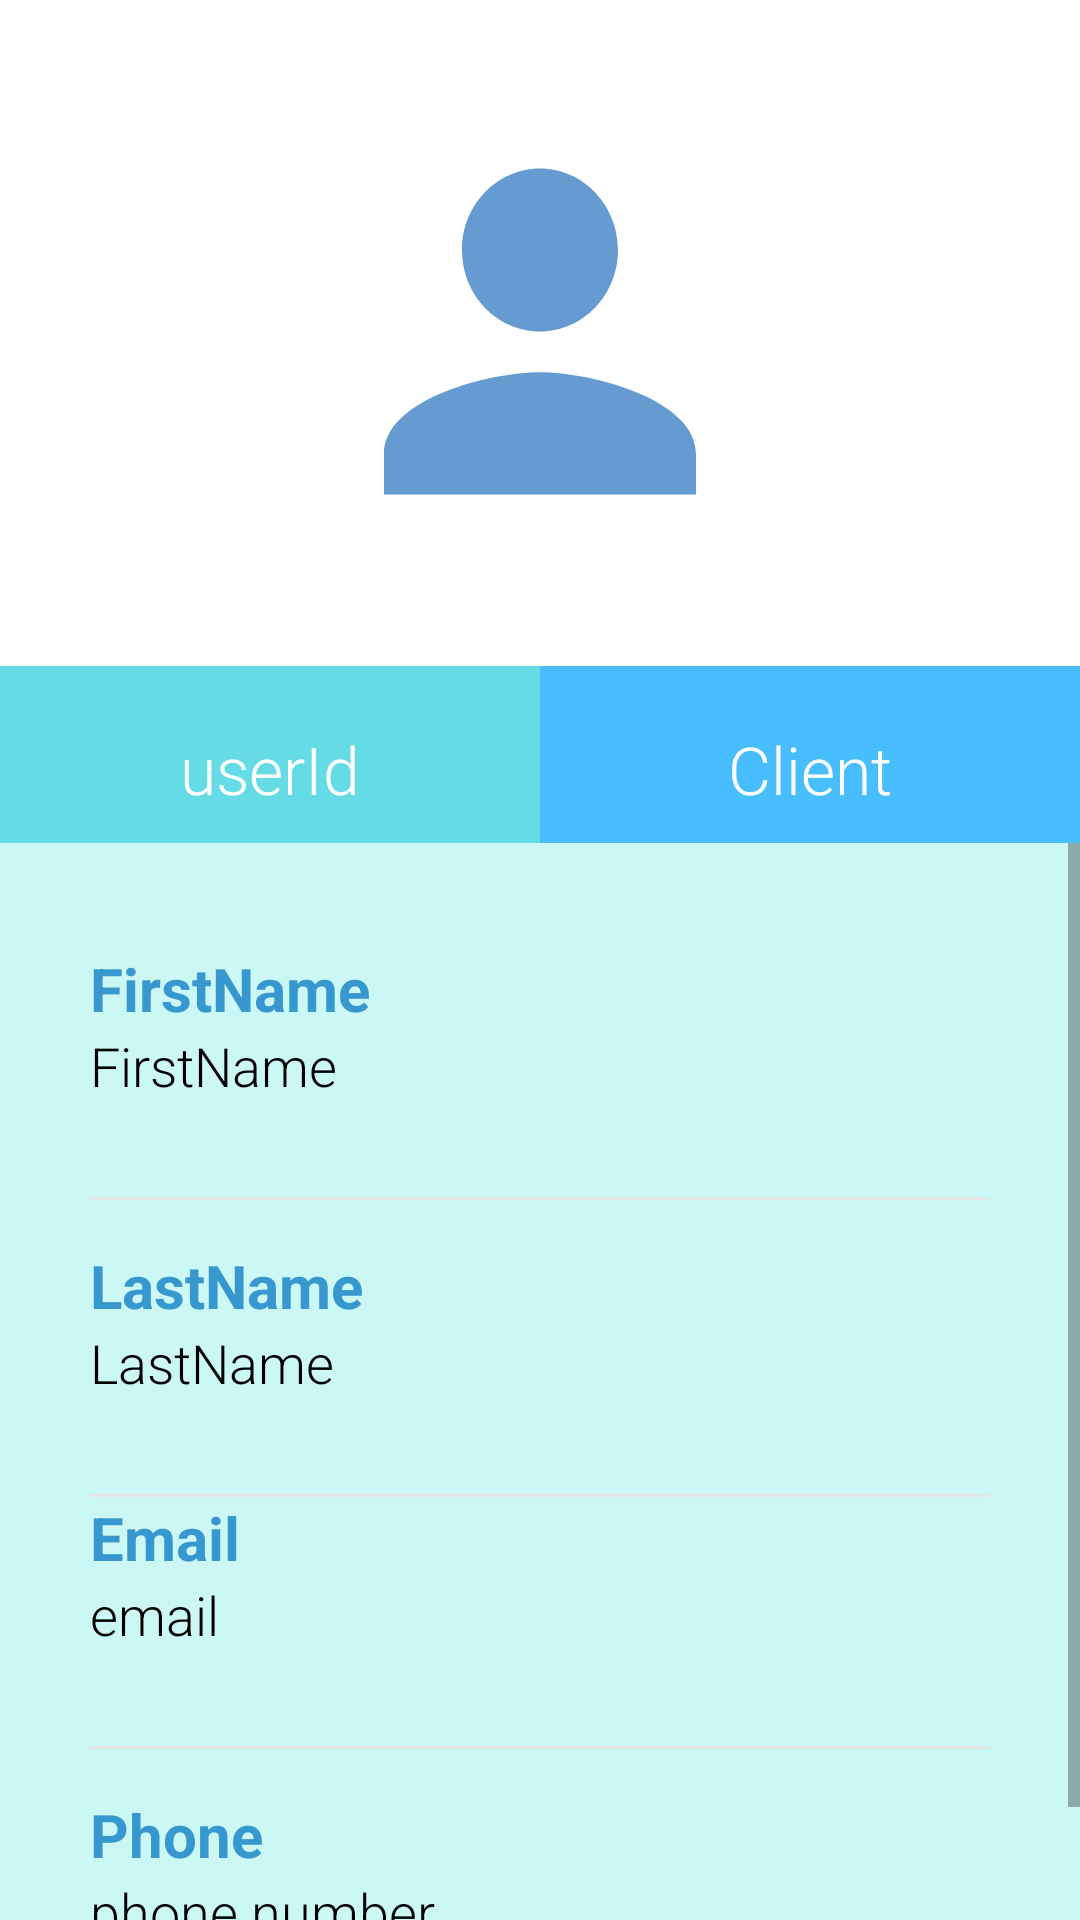

Icon bounding boxes for this 1080×1920 phone screenshot, format (x1, y1, x2, y2):
person: (384, 168, 696, 495)
